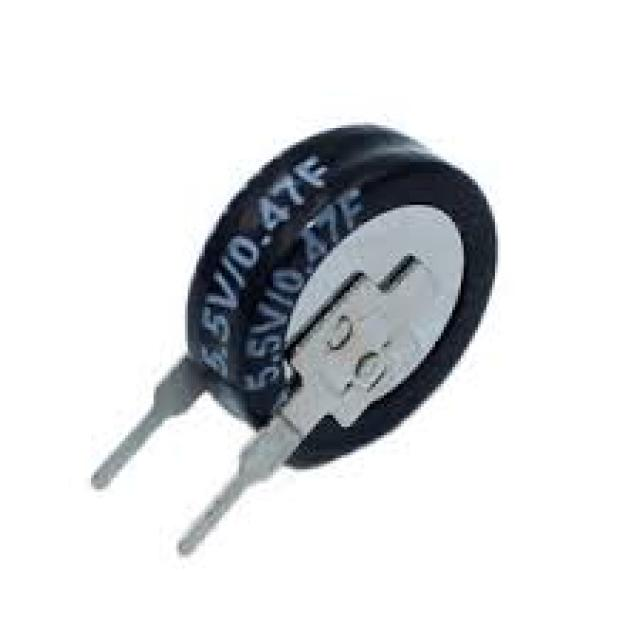Capacitor: (91, 125, 501, 558)
